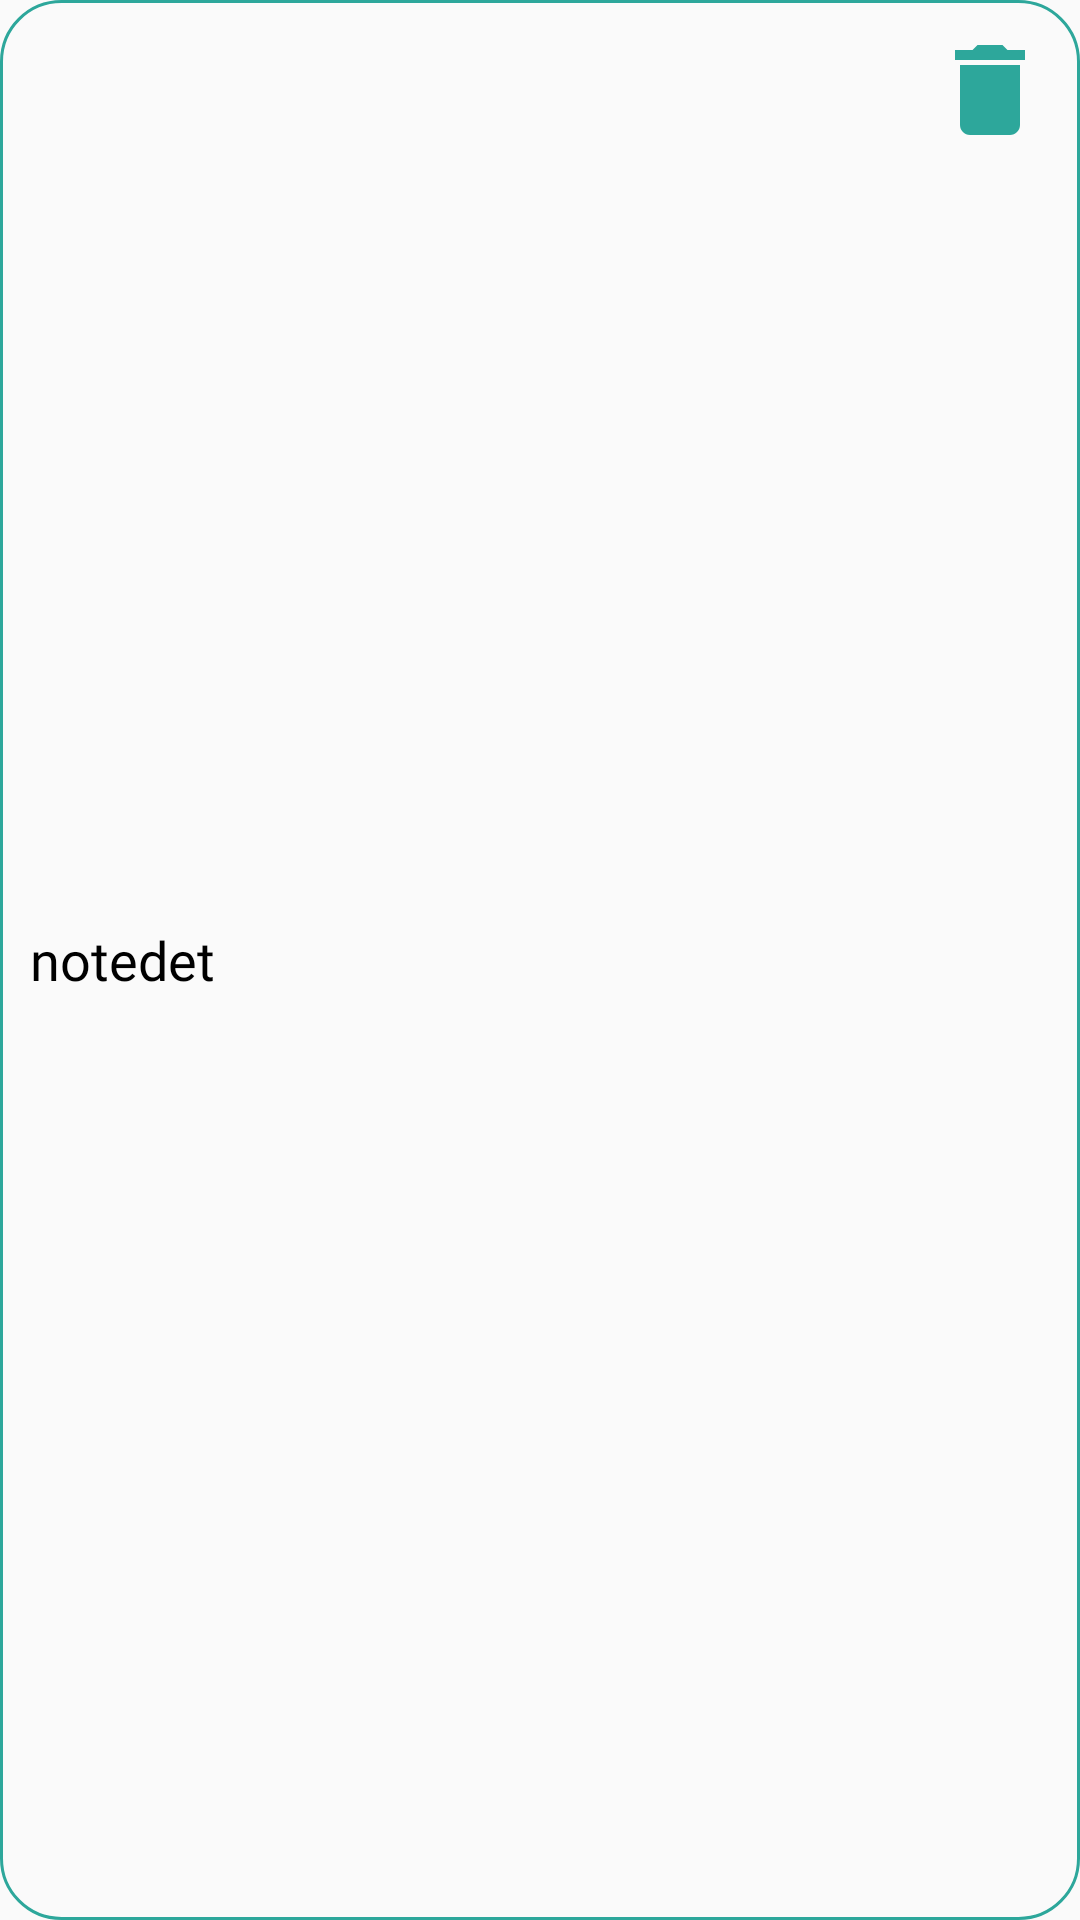

Where to tap for icons on this 1080*1920 app screen, as (x=x, y=y):
delete: (x=990, y=90)
